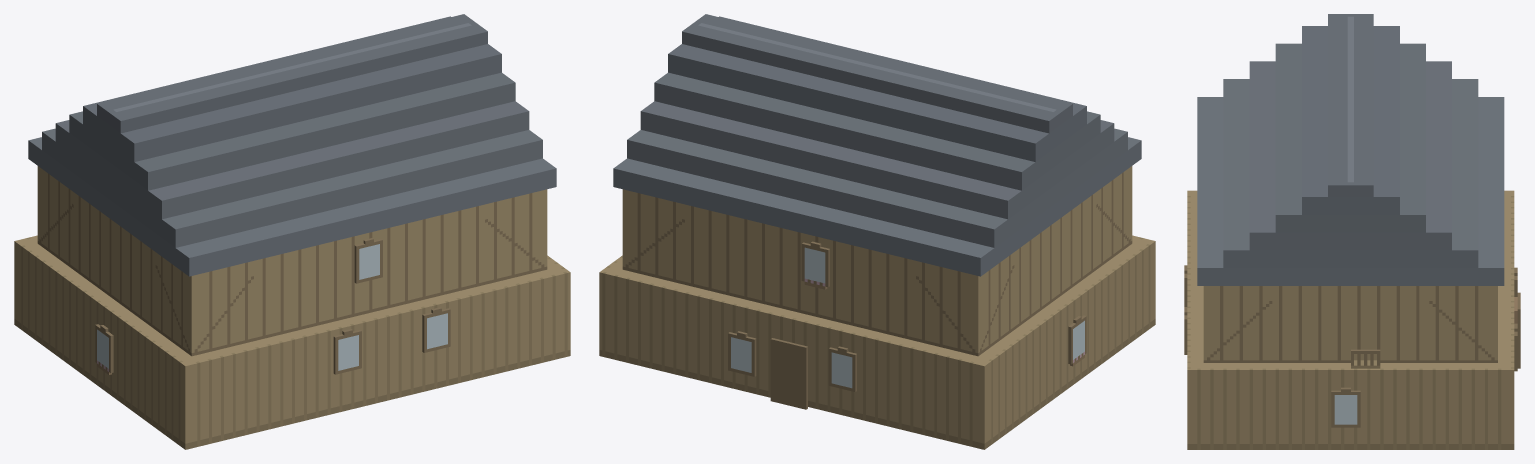
Rendered from mansion_02.glb.
3 renders of one model, left to right at view 1: azimuth 30°, elevation 25°; view 2: azimuth 150°, elevation 25°; view 3: azimuth 270°, elevation 25°, orthographic. The views are drawn at different scales.
Parts seen in each view (by area): view 1: mansion_02; view 2: mansion_02; view 3: mansion_02.
Part boxes in pixels (box(x1,y1,x2,y2)): mansion_02: box(14, 14, 570, 449); mansion_02: box(599, 14, 1155, 449); mansion_02: box(1184, 14, 1520, 449).
Bounding box in the file's own units: 13.2 × 8.8 × 10.3.
